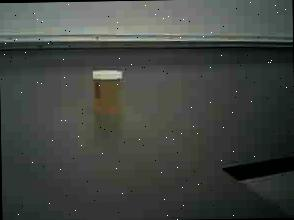Bottle B: (83, 63, 134, 119)
